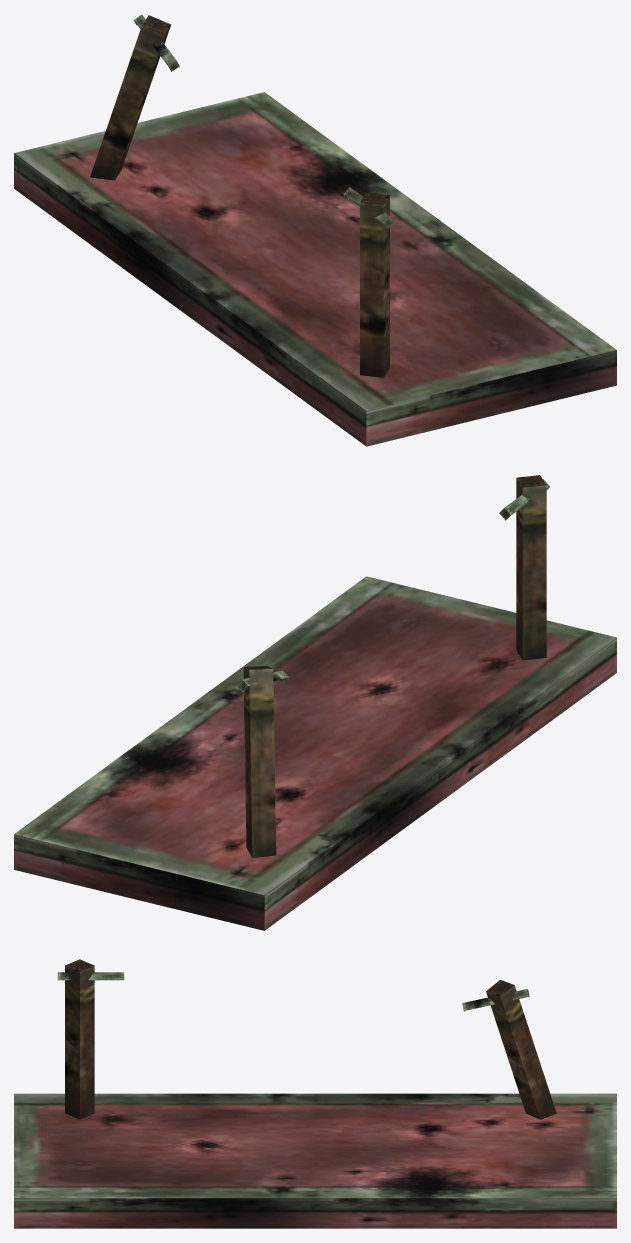
Rendered from USA - Prop - Ancient Pond Dock - Damaged - PAWdDock_D.glb.
The picture shows the model from 3 angles, top to bottom: view 1: azimuth 30°, elevation 25°; view 2: azimuth 150°, elevation 25°; view 3: azimuth 270°, elevation 25°; orthographic projection. The views are drawn at different scales.
Visible parts, largest first — view 1: PAWDDOCK_D; view 2: PAWDDOCK_D; view 3: PAWDDOCK_D.
Boxes of the visible parts, left/top/right/bottom form: PAWDDOCK_D: left=14, top=14, right=616, bottom=446; PAWDDOCK_D: left=14, top=475, right=616, bottom=930; PAWDDOCK_D: left=14, top=959, right=616, bottom=1228.
Bounding box in the file's own units: 14.1 × 11.2 × 34.36.
1 material, 1 textured.
